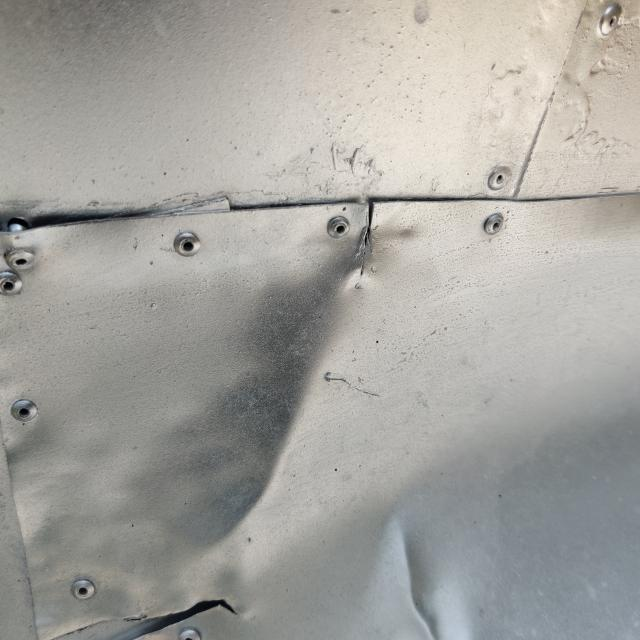crack: (44, 582, 250, 640), (344, 188, 394, 282)
dent: (137, 213, 470, 593), (344, 486, 491, 640)
